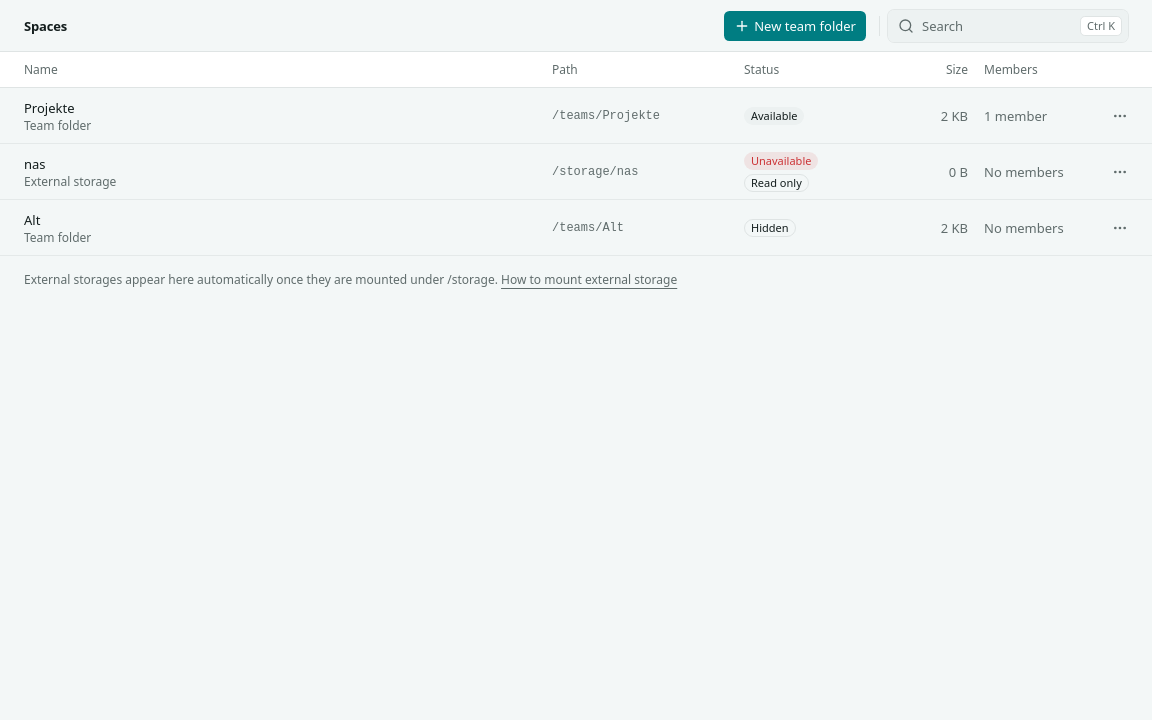
Test: requires a scan interval of at least 10 seconds
The width and height of the screenshot is (1152, 720).
Press Enter in the button named "Actions for nas", box [1104,156,1136,188]
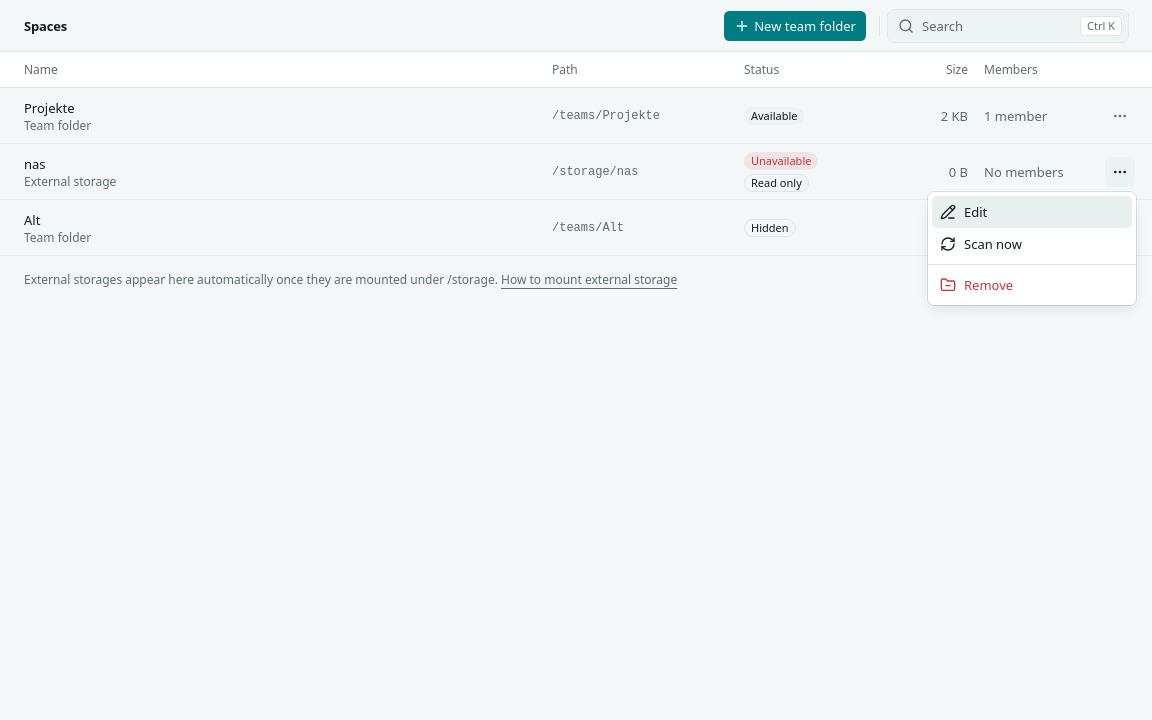
Click the menu item "Edit": (1032, 212) [932,196,1132,228]
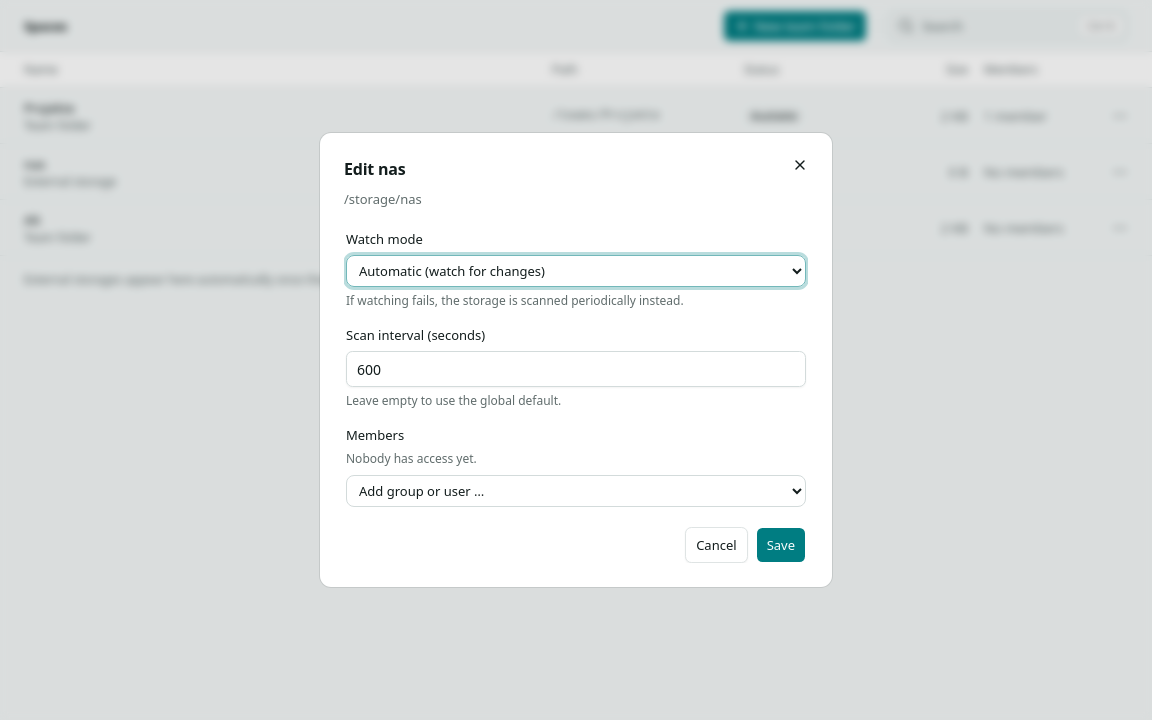
Replace the text in the number field labelled "Scan interval (seconds)" with "5": (576, 369) [346,351,806,387]
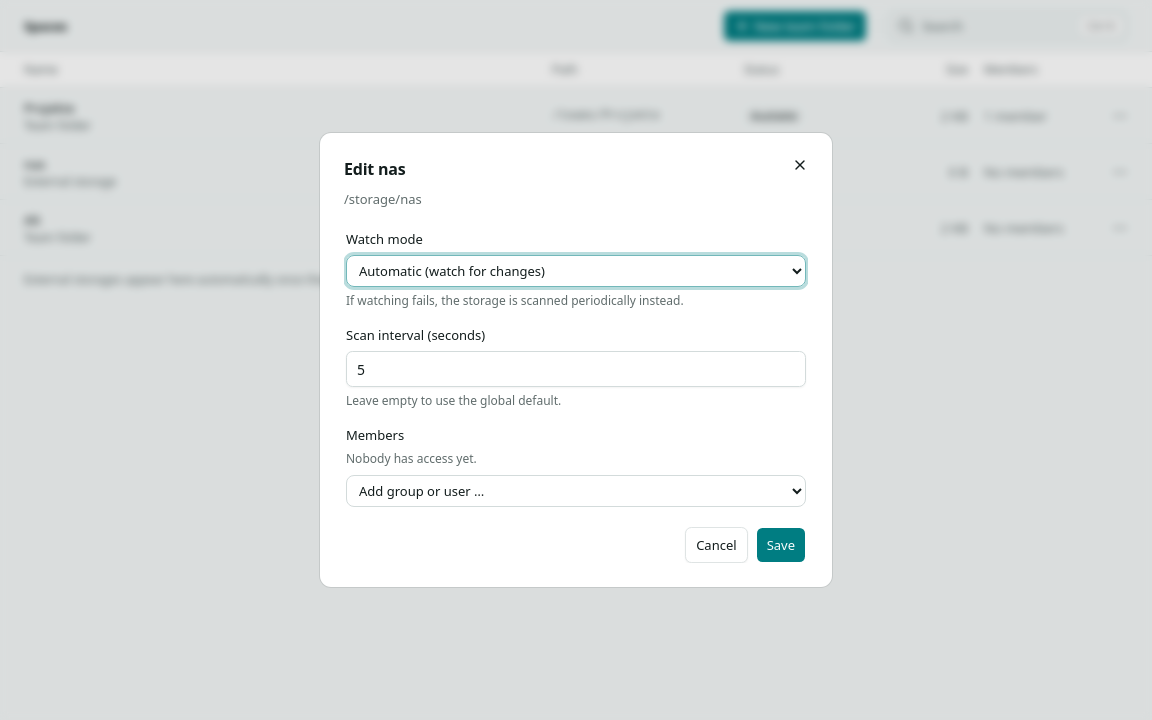
Click the button "Save": (781, 545) [756,527,806,563]
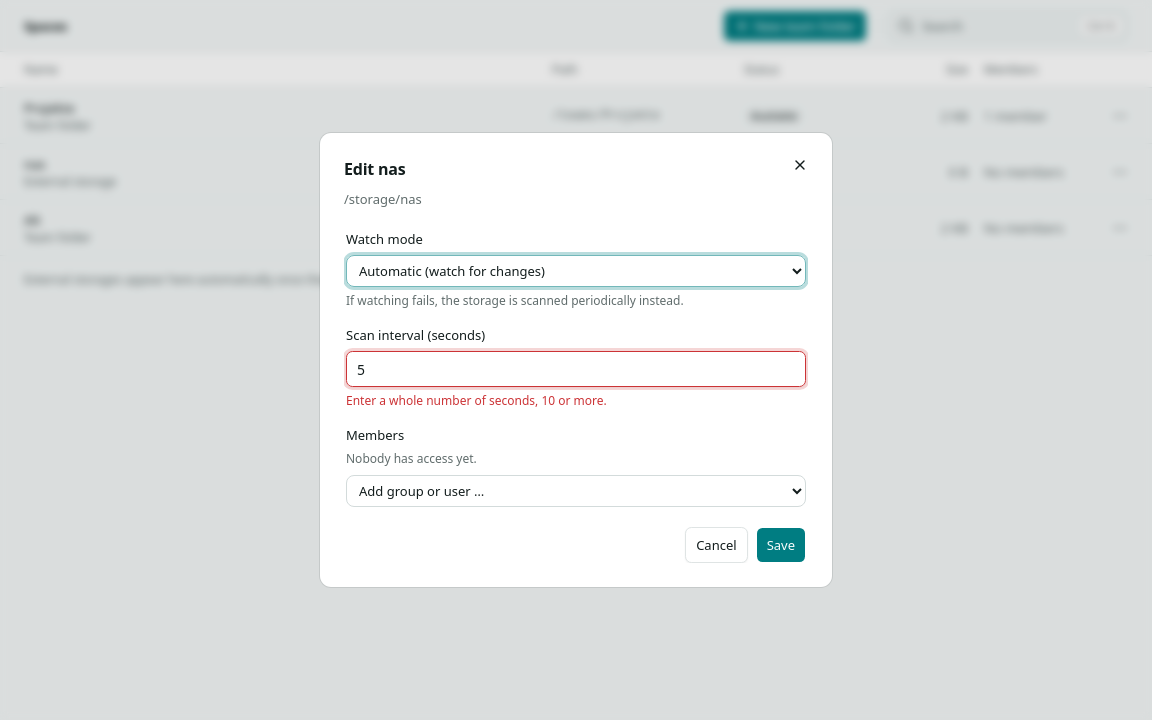
expect the text "Enter a whole number of seconds, 10 or more." is shown: met, box [346,392,607,409]
